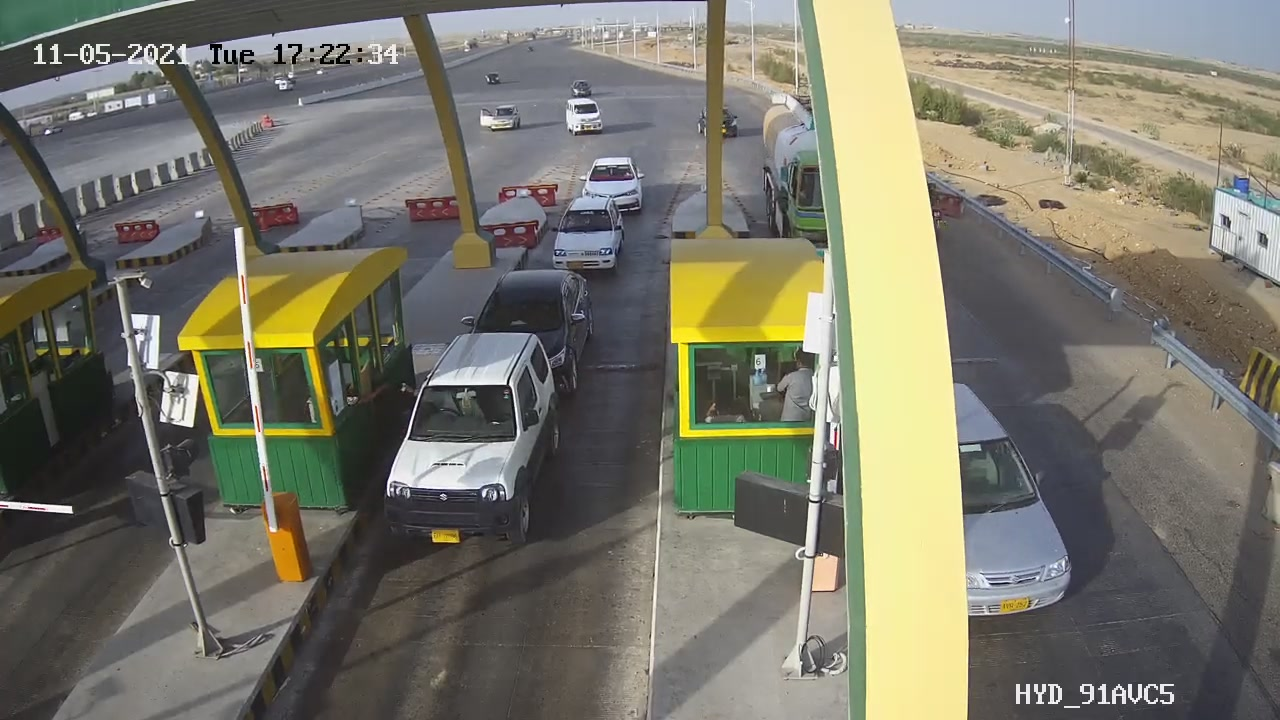F1: (368, 318, 582, 566), (534, 188, 637, 283)
